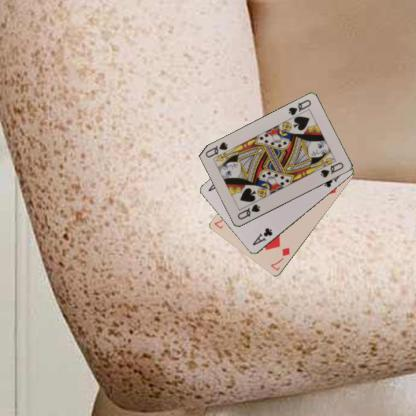7d: (268, 245, 291, 272)
Ac: (249, 225, 274, 247)
Qs: (286, 97, 312, 117), (235, 202, 261, 221)
